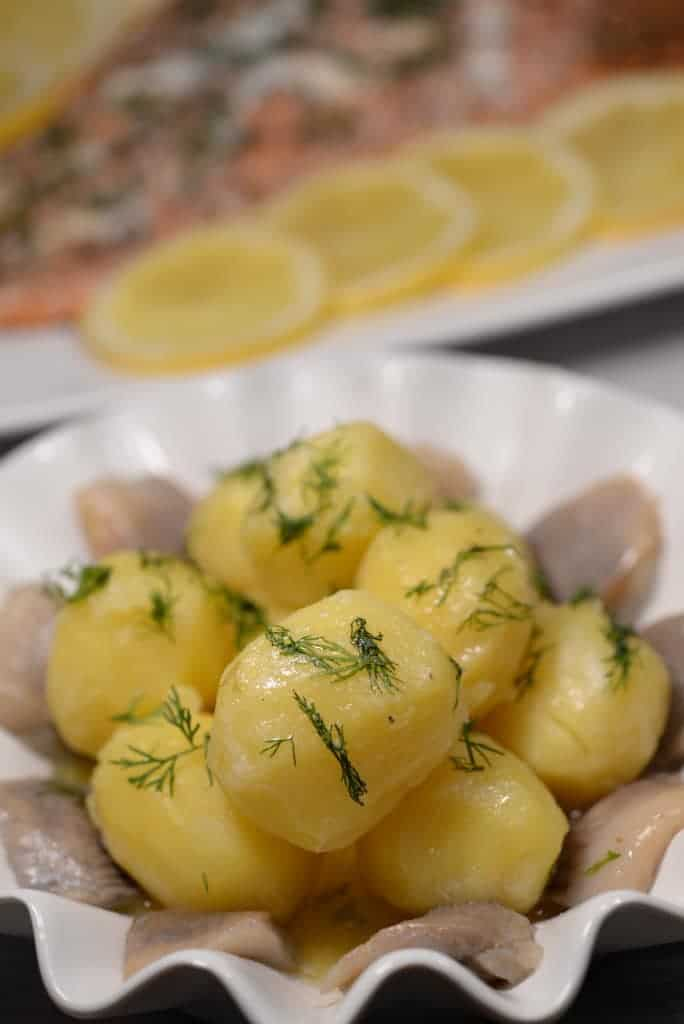boiled potatoes: (100, 537, 567, 828)
